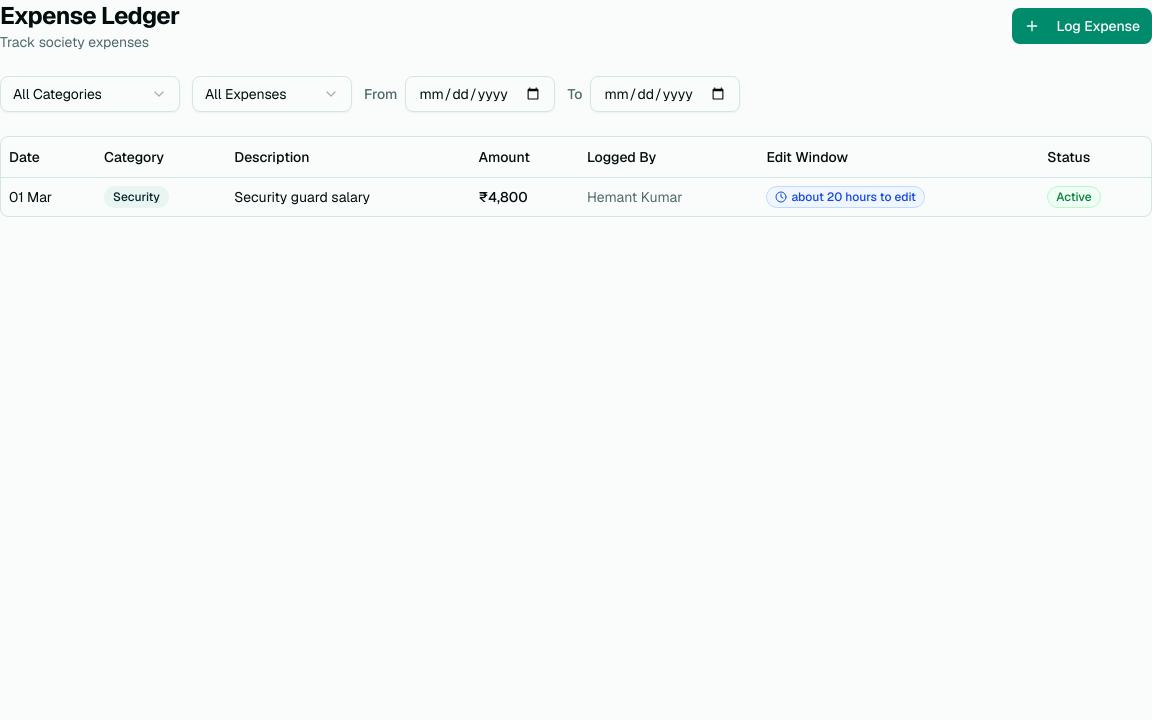
Test: Admin ExpensesPage › shows receipt link in detail sheet when receiptUrl is present
Click the text "Security guard salary": (302, 196) [234,188,370,206]
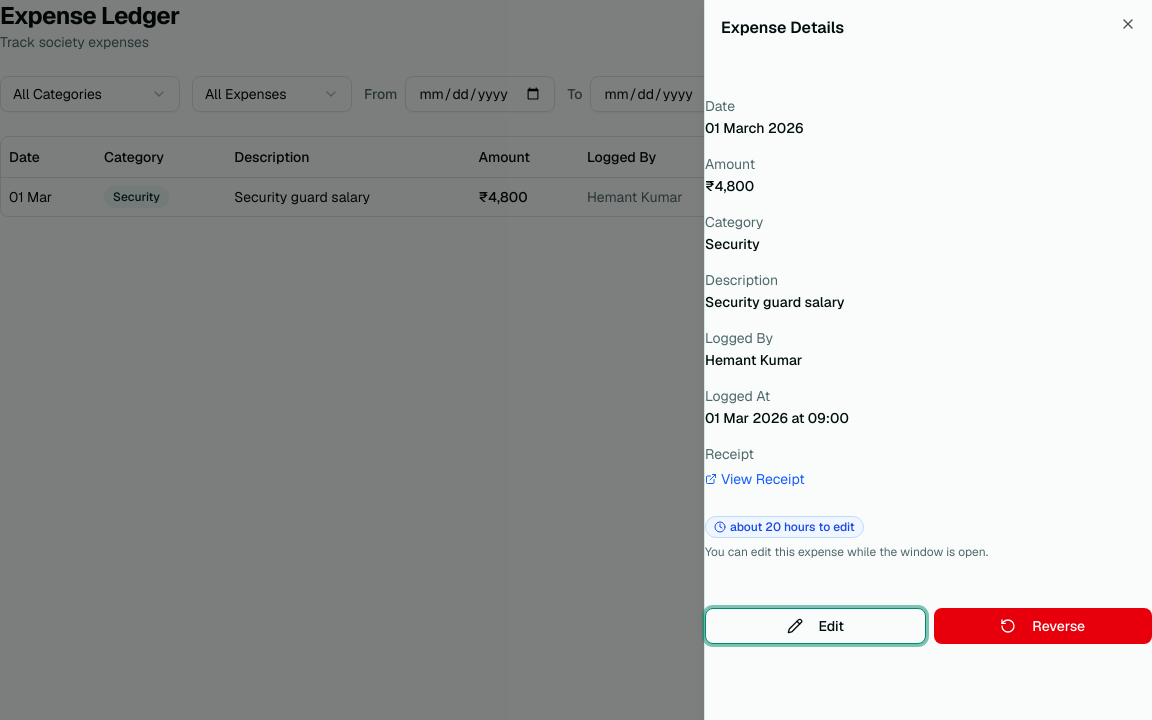
Expected: the link "View Receipt" is shown, [705,469,805,489]
